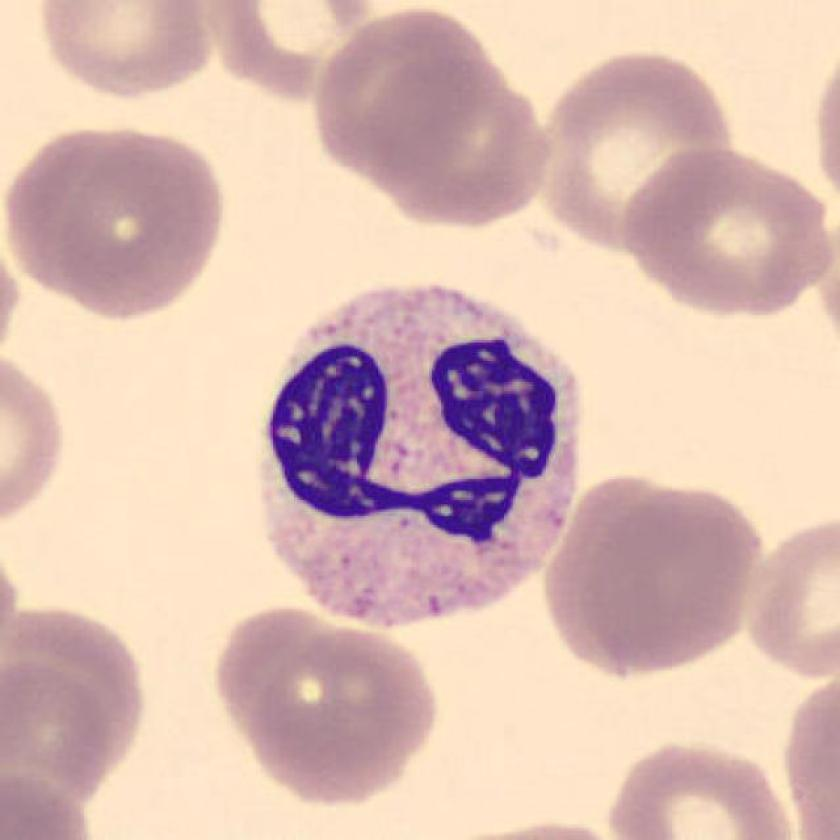neutrophil: (262, 286, 579, 630)
